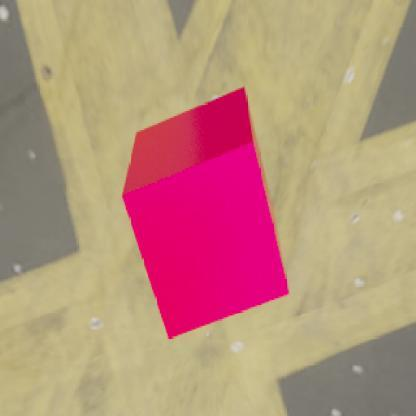red_cube: (121, 85, 289, 338)
